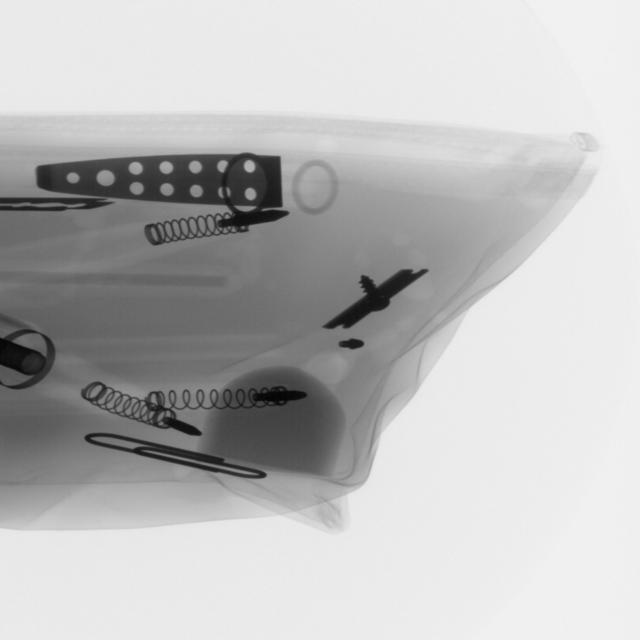knife: (37, 158, 287, 211)
pin: (83, 427, 269, 488)
